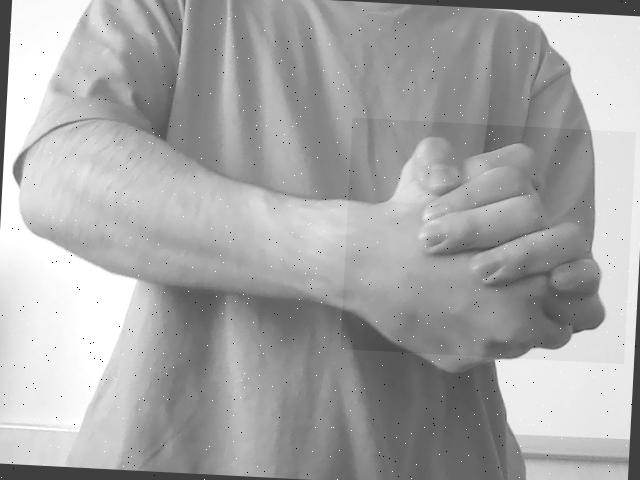friend: (340, 118, 636, 364)
